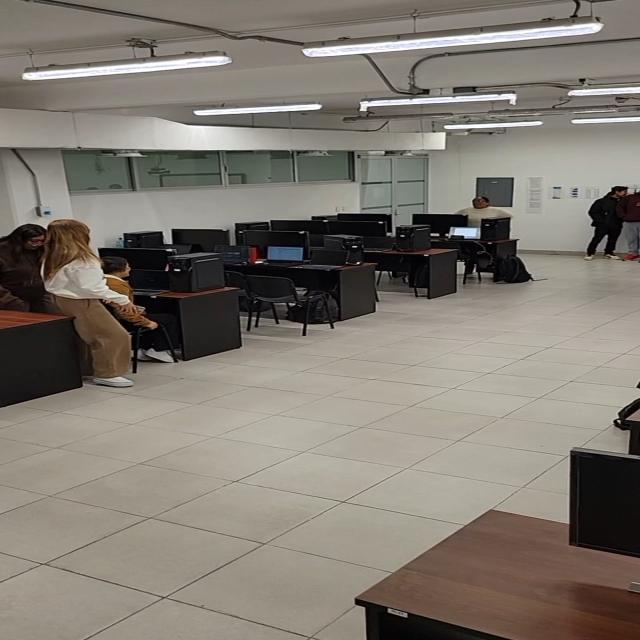Persona: (35, 220, 142, 378), (586, 182, 626, 261), (459, 194, 516, 228)
